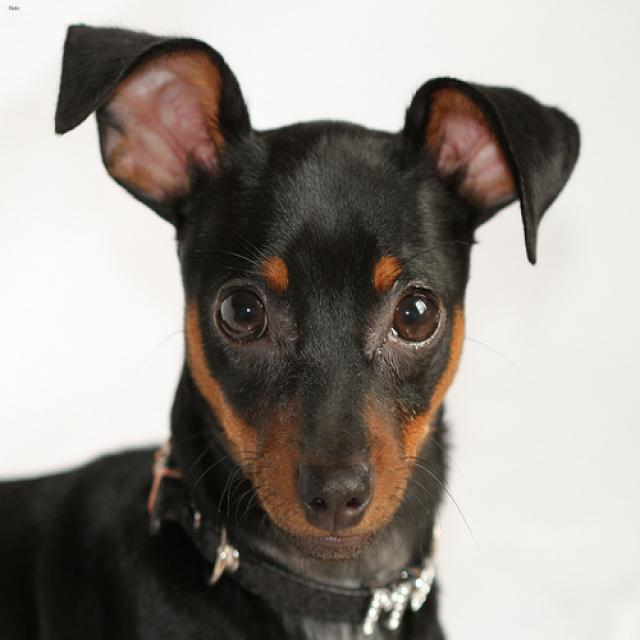dog-miniature_pinscher: (1, 7, 591, 637)
